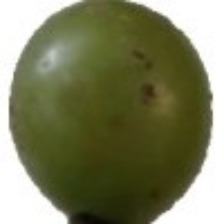grapes: (46, 34, 215, 176)
